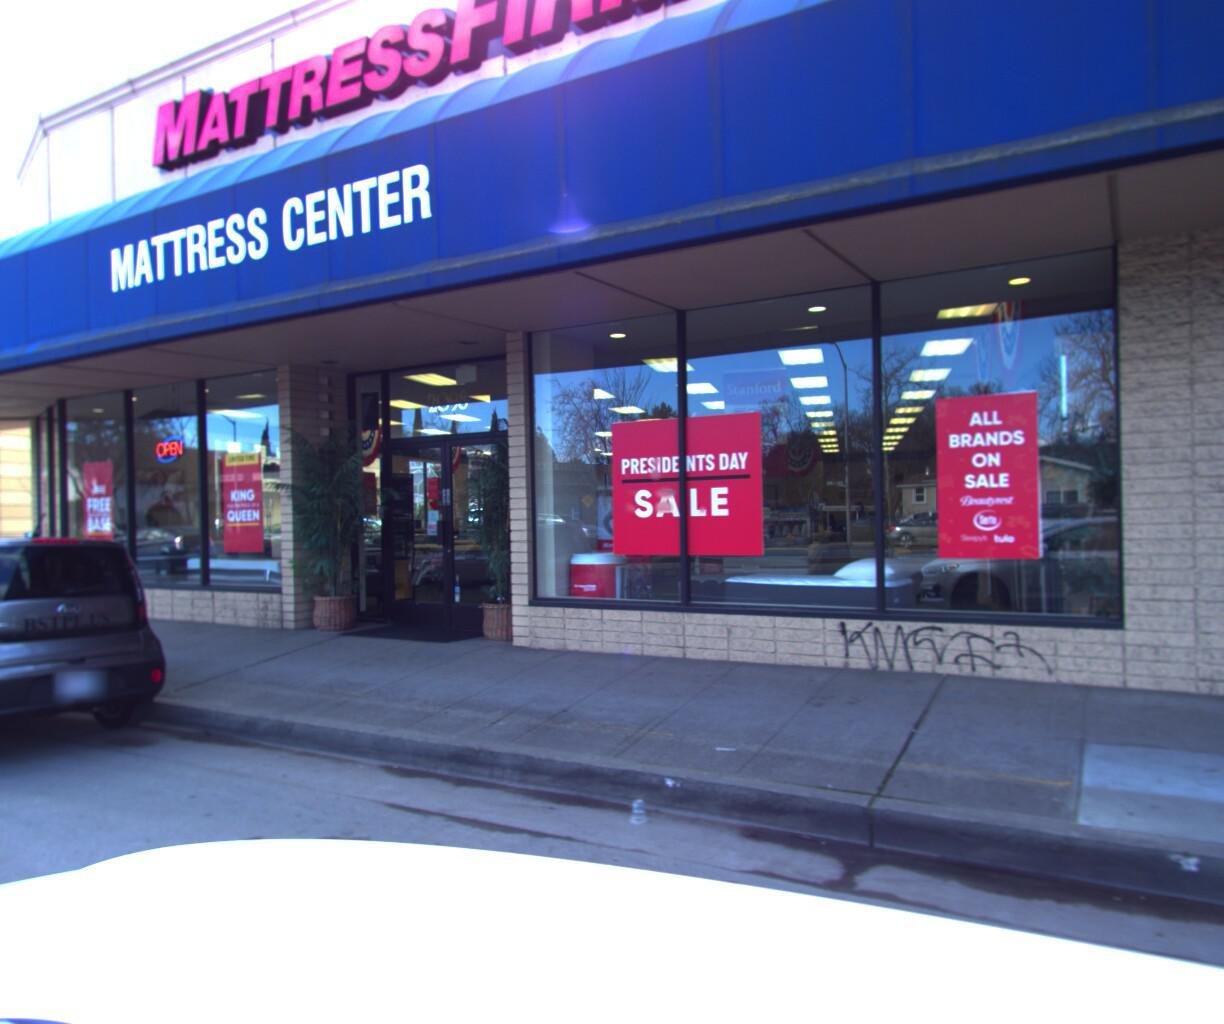car: (0, 527, 202, 808)
